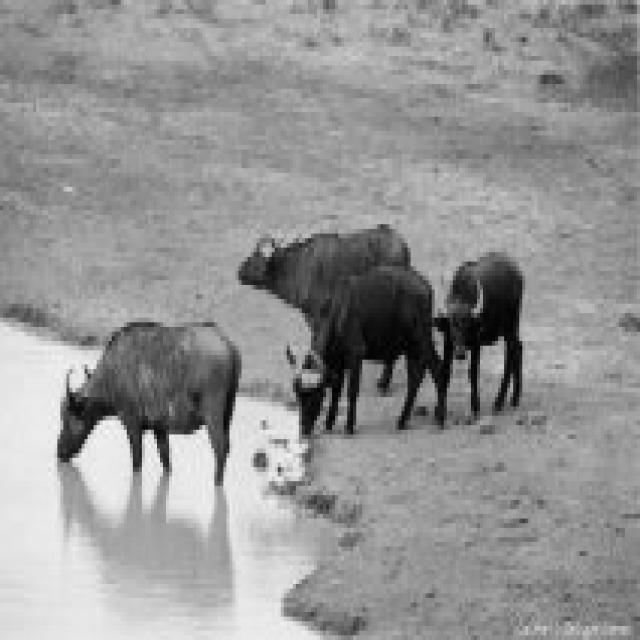Buffalo: (55, 318, 242, 490), (284, 266, 438, 444), (238, 224, 414, 332), (435, 257, 525, 425)
